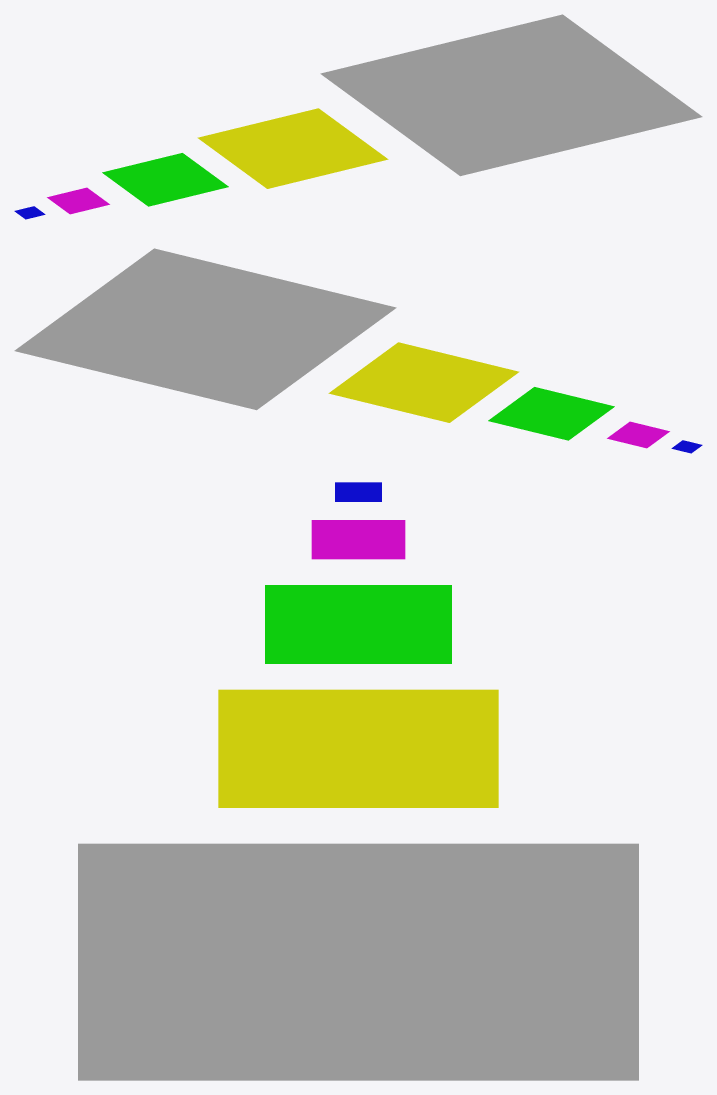
Rendered from otameshi_01.fbx.
3 renders of one model, top to bottom at view 1: azimuth 30°, elevation 25°; view 2: azimuth 150°, elevation 25°; view 3: azimuth 270°, elevation 25°, orthographic. The views are drawn at different scales.
Parts seen in each view (by area): view 1: pPlane5, pPlane4, pPlane3, pPlane1; view 2: pPlane5, pPlane4, pPlane3, pPlane1; view 3: pPlane5, pPlane4, pPlane3, pPlane1, pPlane2.
Boxes of the visible parts, bbox=[...] form: pPlane5: bbox=[320, 14, 702, 176]; pPlane4: bbox=[197, 108, 388, 188]; pPlane3: bbox=[102, 153, 228, 206]; pPlane1: bbox=[47, 187, 109, 214]; pPlane5: bbox=[14, 248, 396, 410]; pPlane4: bbox=[328, 342, 519, 422]; pPlane3: bbox=[488, 387, 614, 440]; pPlane1: bbox=[607, 421, 669, 448]; pPlane5: bbox=[78, 843, 638, 1080]; pPlane4: bbox=[218, 689, 498, 807]; pPlane3: bbox=[265, 585, 451, 663]; pPlane1: bbox=[311, 520, 405, 559]; pPlane2: bbox=[335, 482, 381, 501].
Size of the model in its own units: 303 by 2.66e-14 by 120.
